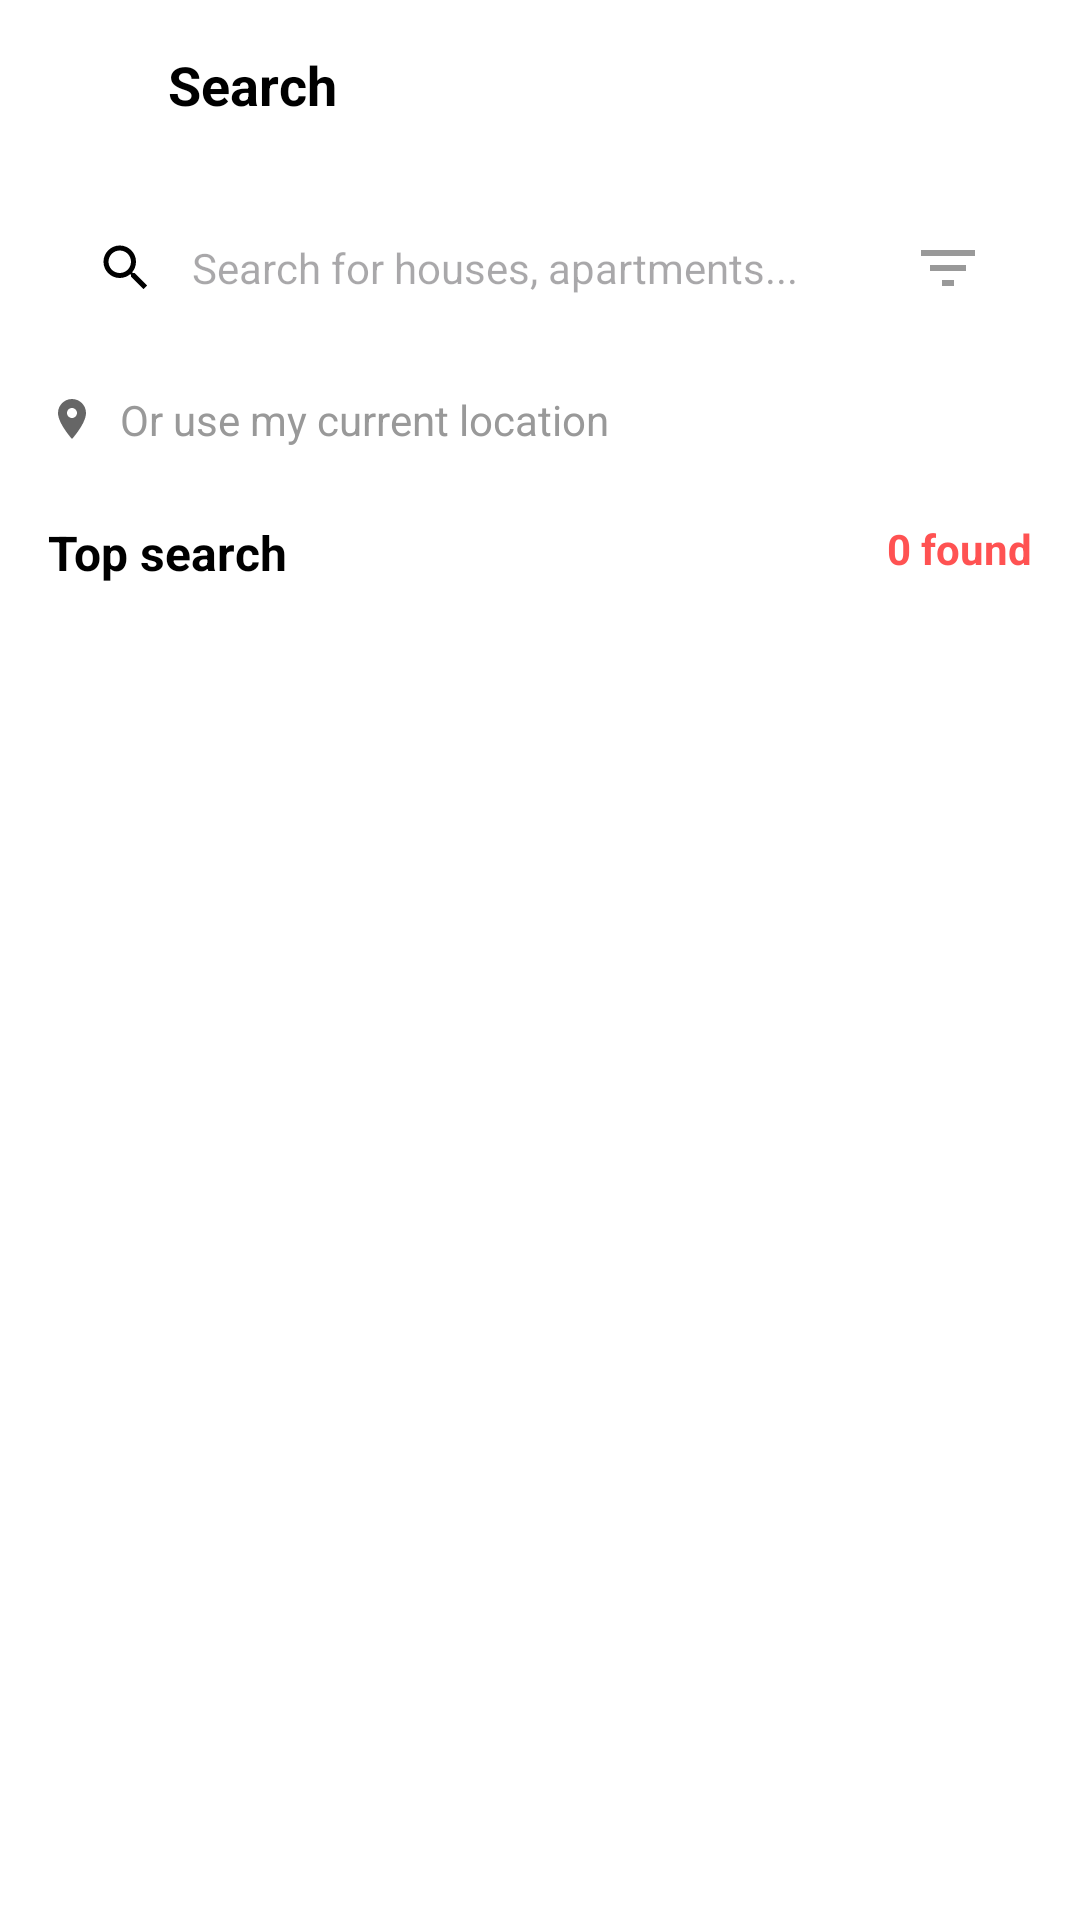

Icon bounding boxes for this 1080w x 1920h phone screenshot, format (x1, y1, x2, y2):
filter: (921, 250, 975, 286)
location pin: (58, 399, 86, 439)
